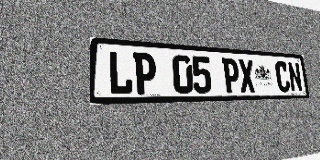0: (172, 55, 193, 94)
5: (192, 56, 212, 93)
C: (274, 61, 291, 92)
L: (108, 51, 133, 95)
N: (287, 62, 303, 92)
P: (133, 52, 157, 94), (222, 58, 240, 93)
X: (238, 59, 256, 93)
